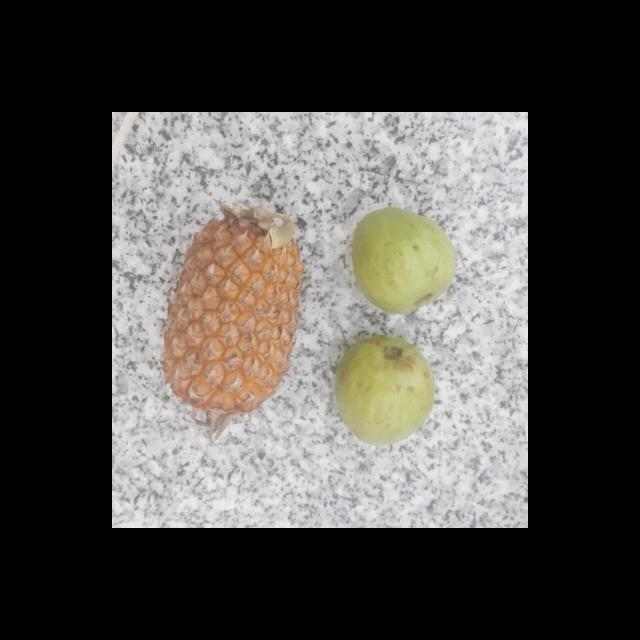guava: (334, 342, 439, 443), (354, 212, 458, 310)
pineapple: (165, 210, 306, 420)
